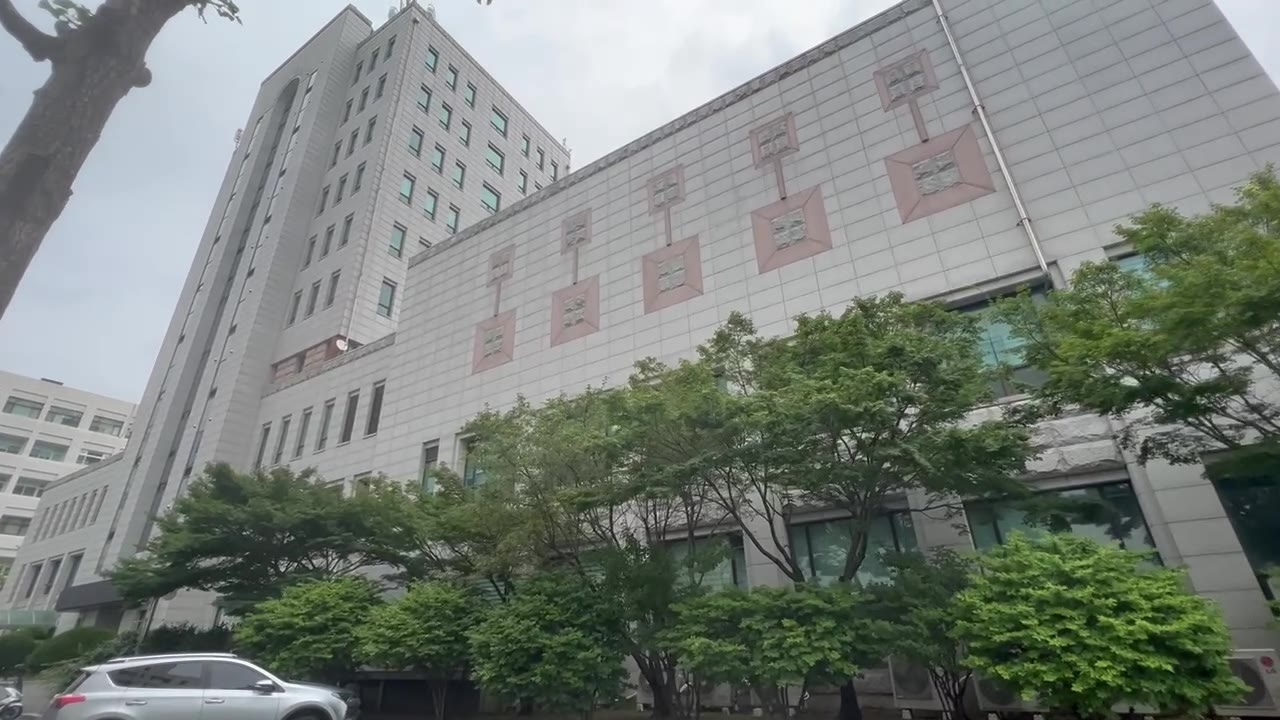low: (212, 33, 1012, 380)
